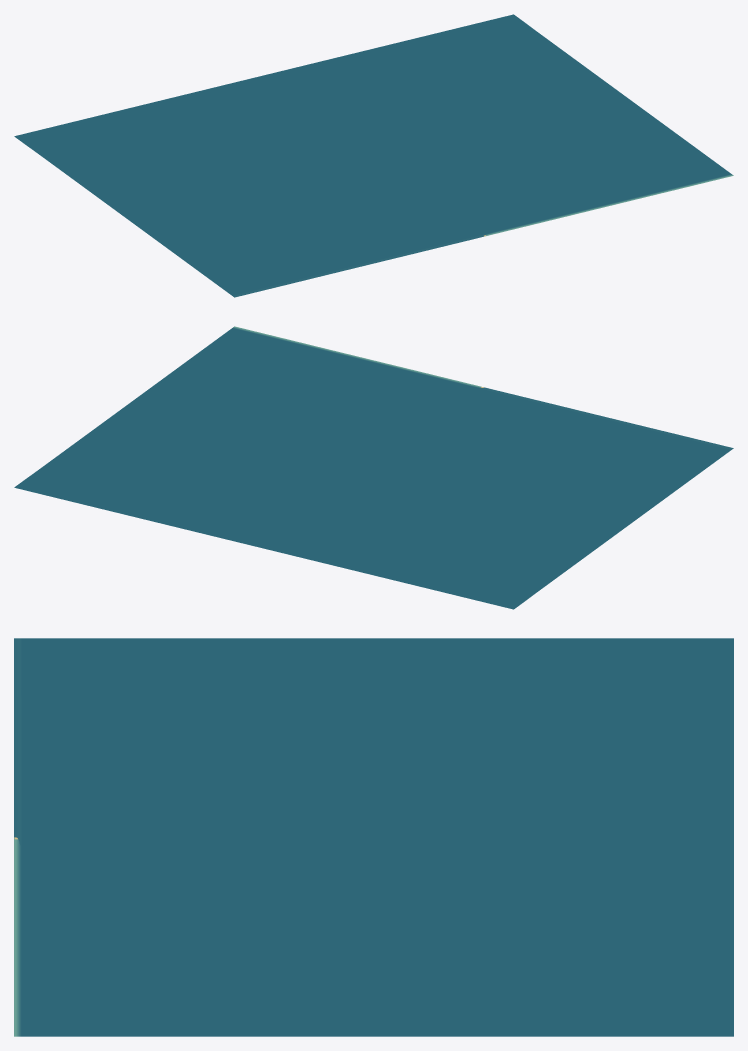
Rendered from summer.glb.
3 renders of one model, top to bottom at view 1: azimuth 30°, elevation 25°; view 2: azimuth 150°, elevation 25°; view 3: azimuth 270°, elevation 25°, orthographic. The views are drawn at different scales.
Parts seen in each view (by area): view 1: Water; view 2: Water; view 3: Water.
Boxes of the visible parts, x1,y1,x2,y2 form: Water: [14, 14, 733, 297]; Water: [14, 326, 733, 609]; Water: [14, 638, 733, 1036].
Bounding box in the file's own units: 11376 × 6.74 × 8688.
